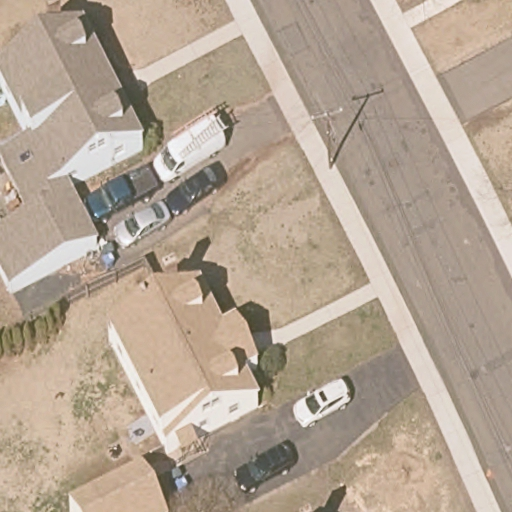DT: (310, 106, 344, 170)
